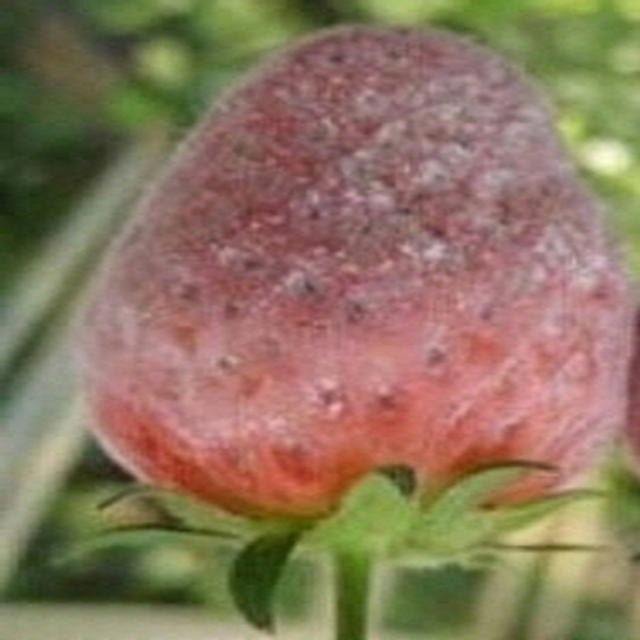Powdery Mildew Fruit: (77, 23, 636, 568)
